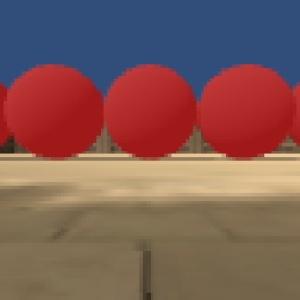badGoal: (194, 53, 292, 167), (5, 61, 105, 167), (108, 59, 198, 166)
